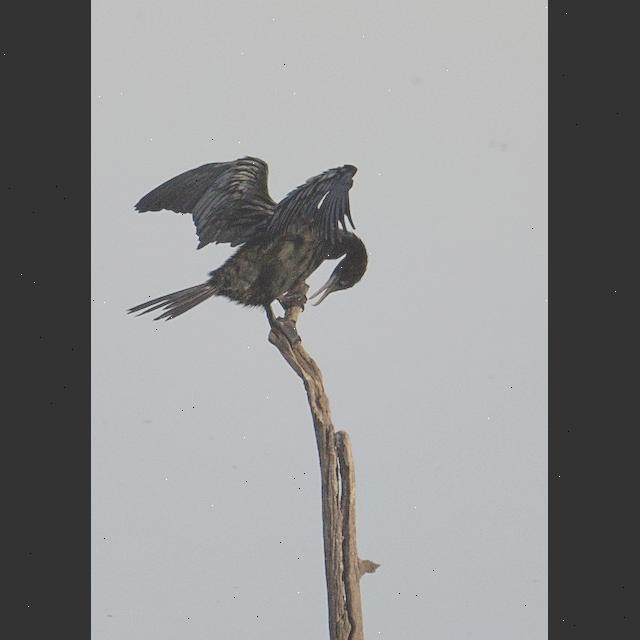heron: (112, 150, 388, 362)
